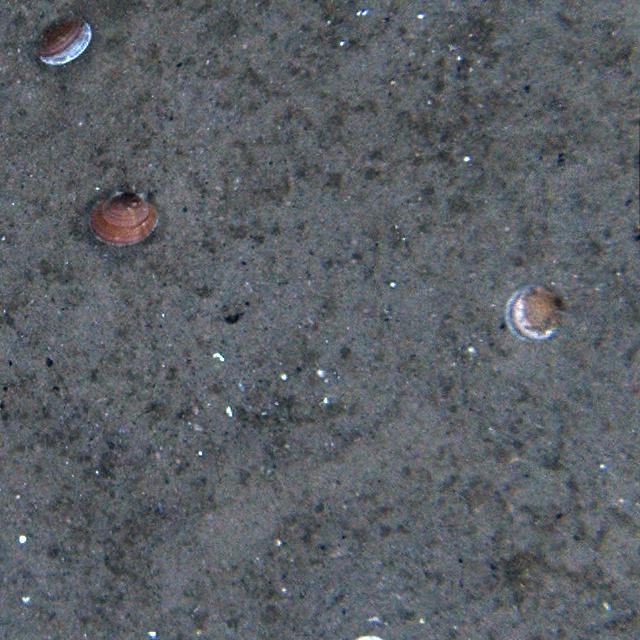scallop: (86, 184, 162, 248), (29, 15, 95, 66), (506, 283, 563, 341)
